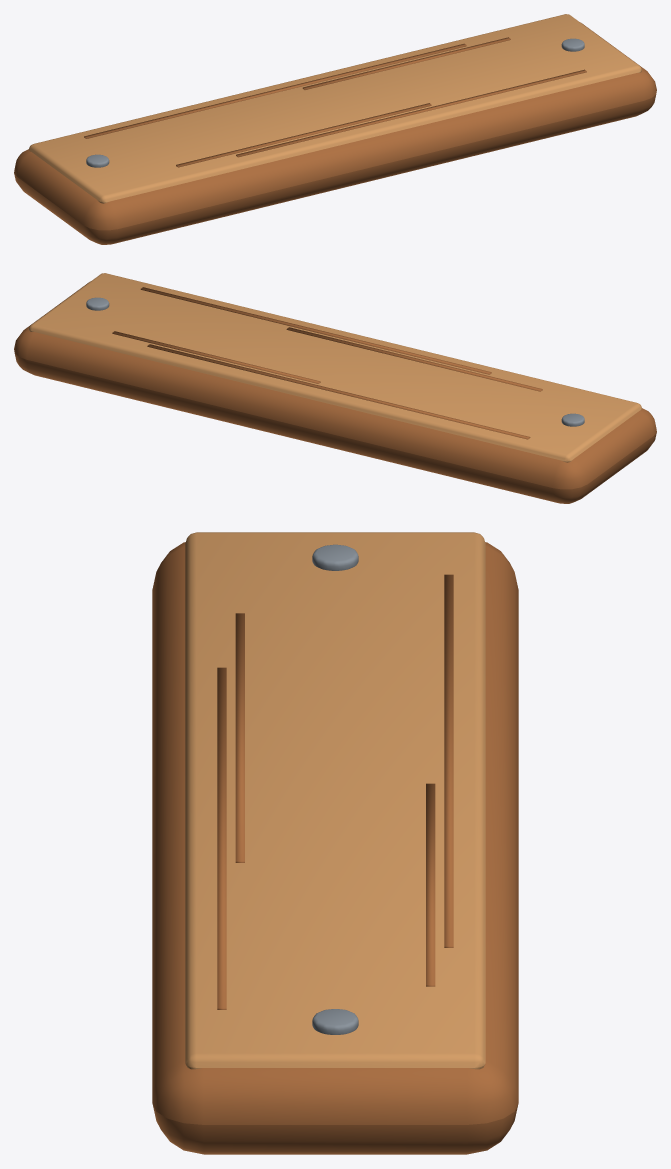
Rendered from MenuPlank.fbx.
The picture shows the model from 3 angles, top to bottom: view 1: azimuth 30°, elevation 25°; view 2: azimuth 150°, elevation 25°; view 3: azimuth 270°, elevation 25°; orthographic projection. The views are drawn at different scales.
Visible parts, largest first — view 1: MenuPlank; view 2: MenuPlank; view 3: MenuPlank.
Part boxes in pixels (x1=…): MenuPlank: x1=14, y1=14, x2=656, y2=244; MenuPlank: x1=14, y1=273, x2=656, y2=503; MenuPlank: x1=152, y1=532, x2=518, y2=1154.
Size of the model in its own units: 3.6 by 0.325 by 1.
Materials: 1 (1 with a texture image).
